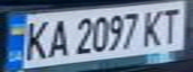0: (90, 12, 112, 53)
2: (72, 14, 93, 56)
7: (121, 9, 145, 48)
9: (106, 11, 127, 52)
A: (45, 16, 72, 60)
K: (18, 16, 51, 62), (139, 7, 169, 47)
T: (157, 4, 187, 45)
